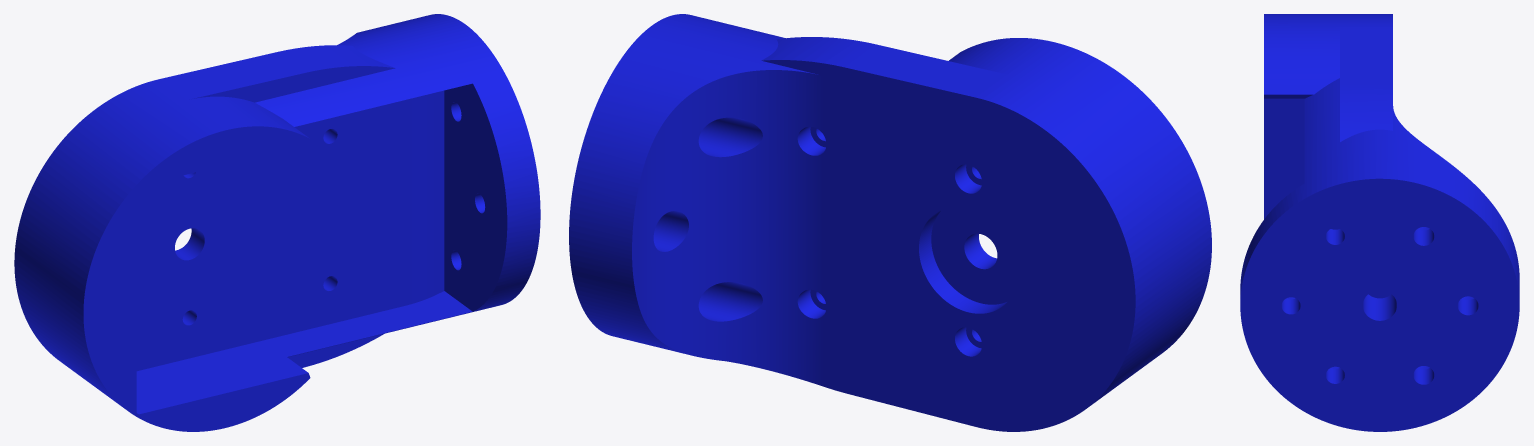
3 views of the same model, side by side, from view 1: azimuth 30°, elevation 25°; view 2: azimuth 150°, elevation 25°; view 3: azimuth 270°, elevation 25° (orthographic). The views are drawn at different scales.
Visible parts, largest first — view 1: Shoulder-Pc2-1; view 2: Shoulder-Pc2-1; view 3: Shoulder-Pc2-1.
Part boxes in pixels (box(x1,y1,x2,y2)): Shoulder-Pc2-1: box(14, 14, 540, 431); Shoulder-Pc2-1: box(569, 14, 1211, 431); Shoulder-Pc2-1: box(1240, 14, 1519, 431).
Bounding box in the file's own units: 0.1264 × 0.0736 × 0.0809.
